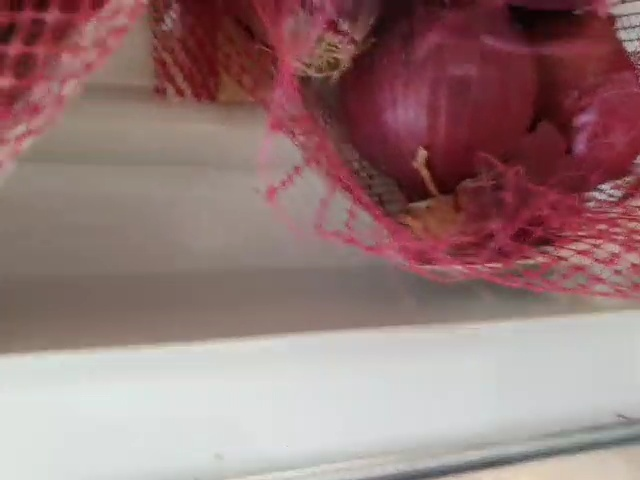red_onion: (248, 1, 640, 217)
